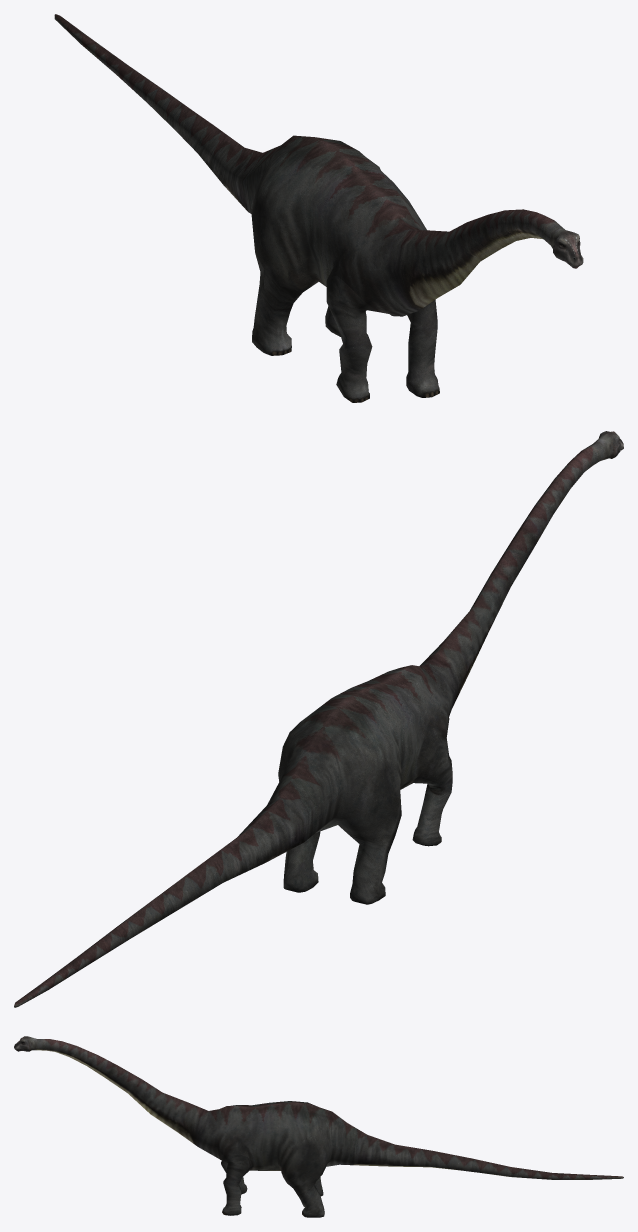
The model's file is diplodocus.glb.
3 renders of one model, top to bottom at view 1: azimuth 30°, elevation 25°; view 2: azimuth 150°, elevation 25°; view 3: azimuth 270°, elevation 25°, orthographic. The views are drawn at different scales.
Parts seen in each view (by area): view 1: diplodocus_0; view 2: diplodocus_0; view 3: diplodocus_0.
Boxes of the visible parts, box(x1,y1,x2,y2) form: diplodocus_0: box(54, 14, 583, 402); diplodocus_0: box(14, 431, 623, 1007); diplodocus_0: box(14, 1036, 623, 1217).
Bounding box in the file's own units: 0.1488 × 0.3689 × 1.26.
1 material, 1 textured.
